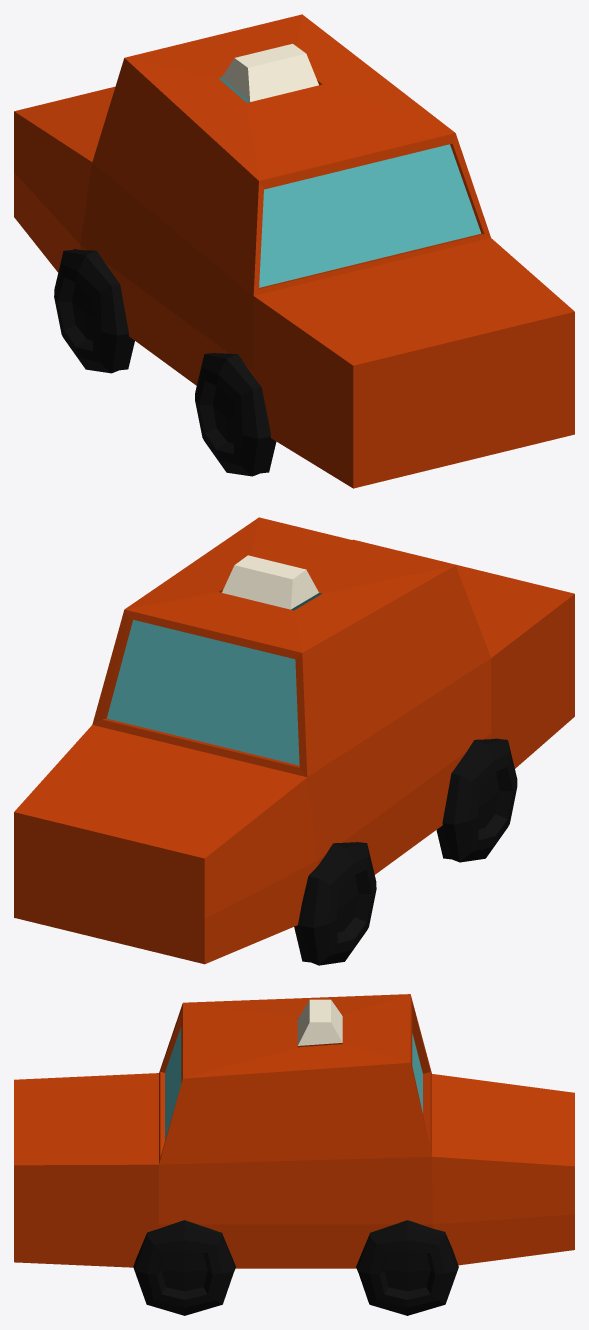
Rendered from car_t.obj.
3 views of the same model, one above another, from view 1: azimuth 30°, elevation 25°; view 2: azimuth 150°, elevation 25°; view 3: azimuth 270°, elevation 25° (orthographic). The views are drawn at different scales.
Parts seen in each view (by area): view 1: Cube.003, Cube.005, Cube.001, Cube.004; view 2: Cube.003, Cube.005, Cube.001, Cube.004; view 3: Cube.003, Cube.001, Cube.004, Cube.005.
Part boxes in pixels (x1=…): Cube.003: x1=14, y1=14, x2=574, y2=488; Cube.005: x1=218, y1=77, x2=481, y2=287; Cube.001: x1=54, y1=249, x2=276, y2=476; Cube.004: x1=222, y1=43, x2=318, y2=101; Cube.003: x1=14, y1=517, x2=574, y2=964; Cube.005: x1=106, y1=593, x2=321, y2=765; Cube.001: x1=294, y1=738, x2=517, y2=965; Cube.004: x1=222, y1=555, x2=318, y2=609; Cube.003: x1=14, y1=994, x2=574, y2=1268; Cube.001: x1=133, y1=1220, x2=458, y2=1315; Cube.004: x1=297, y1=999, x2=342, y2=1045; Cube.005: x1=165, y1=1027, x2=422, y2=1140.
Size of the model in its own units: 3.6 by 4.01 by 7.94.
